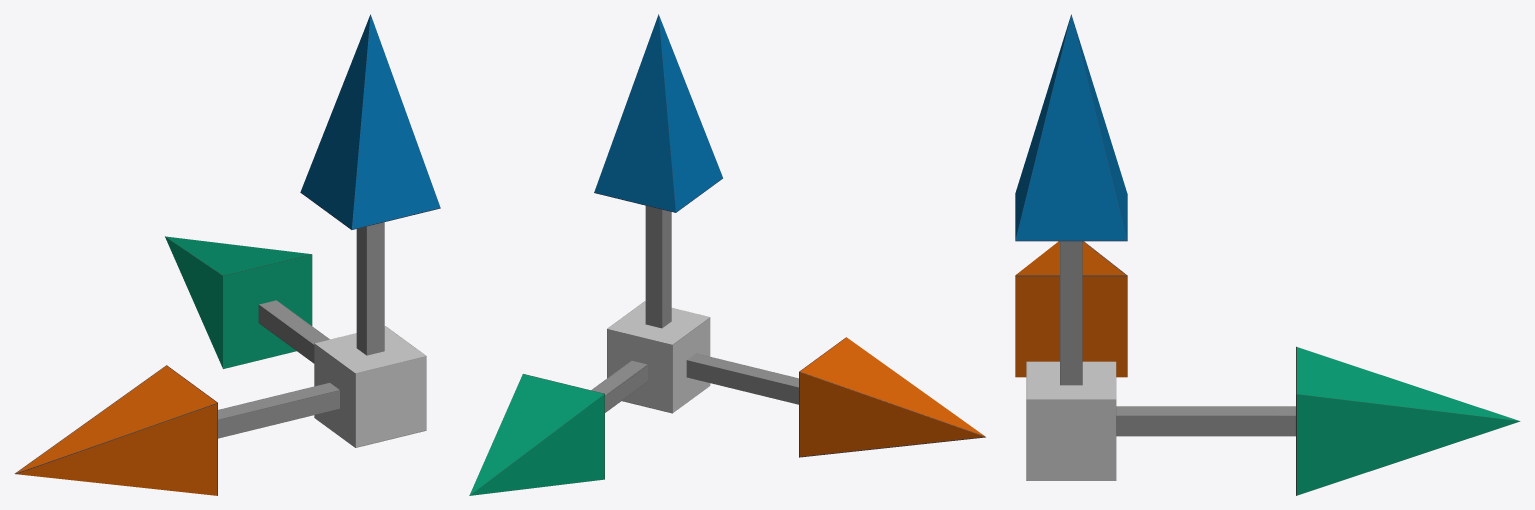
File: AxesLeftHand.fbx
3 renders of one model, left to right at view 1: azimuth 30°, elevation 25°; view 2: azimuth 150°, elevation 25°; view 3: azimuth 270°, elevation 25°, orthographic. The views are drawn at different scales.
Parts seen in each view (by area): view 1: Axes; view 2: Axes; view 3: Axes.
Boxes of the visible parts, left/top/right/bottom form: Axes: left=14, top=14, right=440, bottom=495; Axes: left=469, top=14, right=985, bottom=495; Axes: left=1015, top=14, right=1520, bottom=495.
Size of the model in its own units: 1.13 by 1.13 by 1.12.
